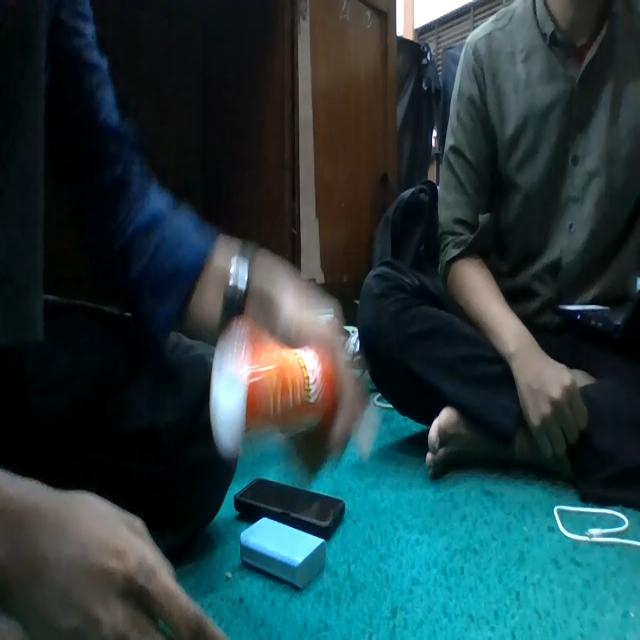Boncabe: (210, 319, 338, 458)
Powerbank: (240, 517, 326, 589)
